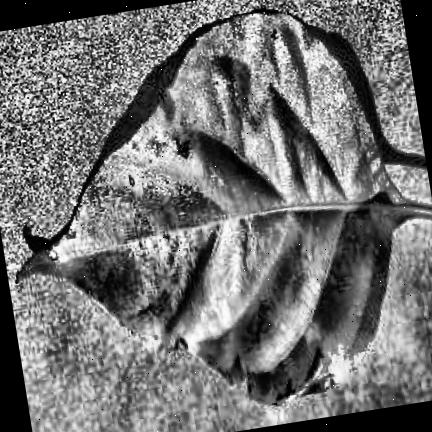leaf: (19, 11, 432, 404)
